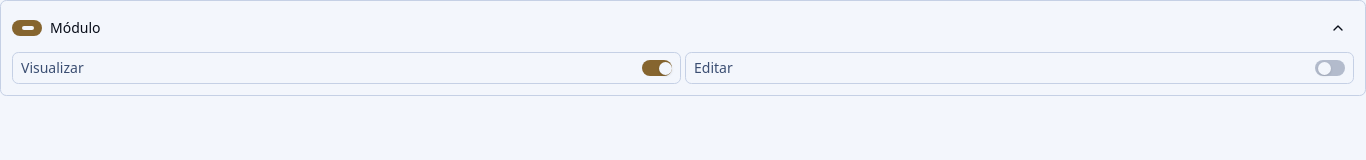
Scenario: shared form foundation › exposes a mixed parent permission state and all-selection action
The width and height of the screenshot is (1366, 160).
Click the checkbox named "Módulo".
click(27, 28)  # box [12,20,42,36]
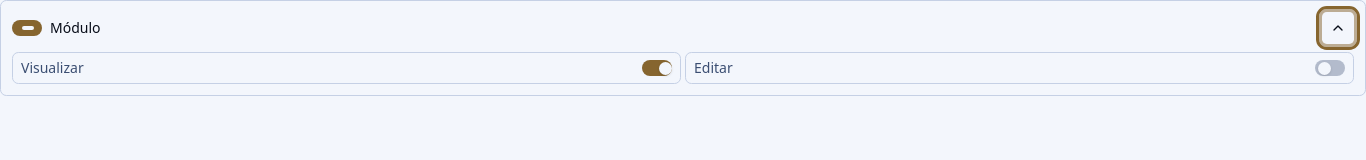
Type keys " "
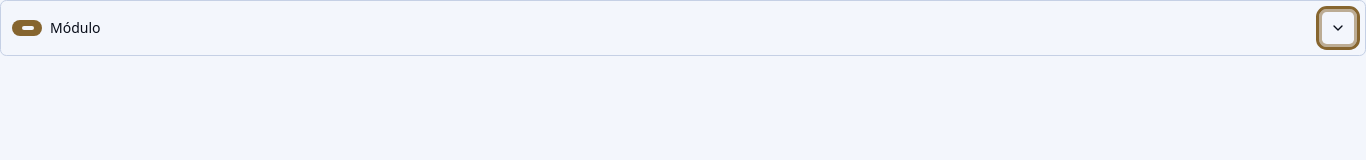
Result: the button named "Alternar permissões de Módulo" is collapsed at [1322,12,1354,44]
Press Enter
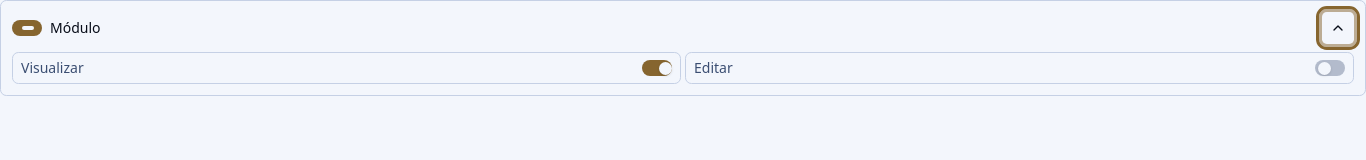
Result: the button named "Alternar permissões de Módulo" is expanded at [1322,12,1354,44]
